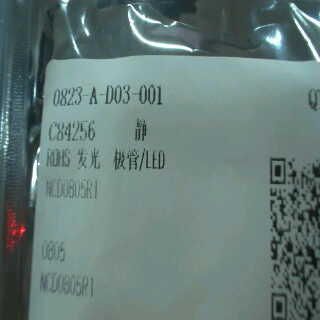LED: (75, 147, 169, 172)
